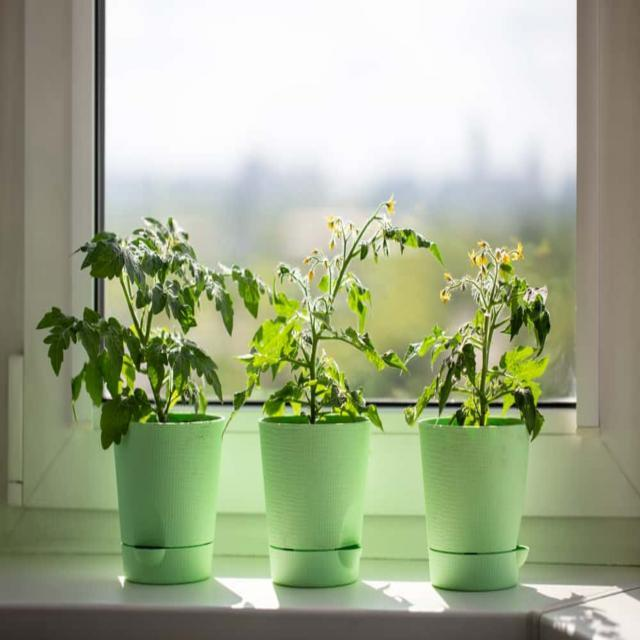tomato: (232, 194, 453, 432), (35, 217, 238, 450), (381, 240, 552, 442)
